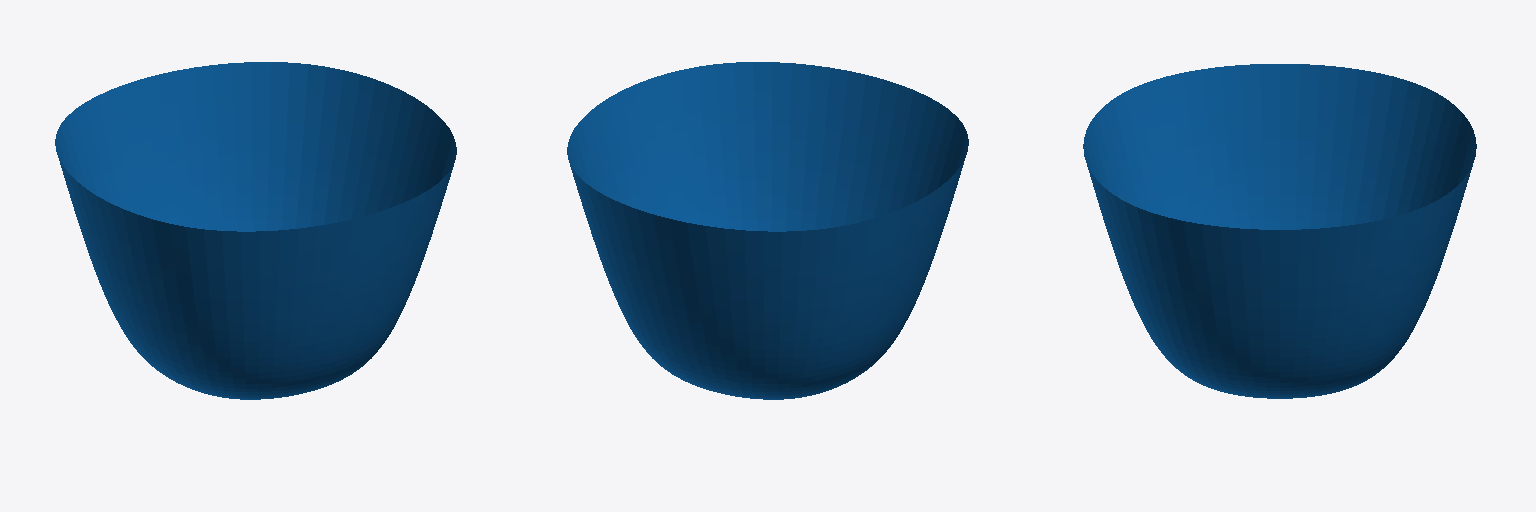
Rendered from tree.obj.
3 renders of one model, left to right at view 1: azimuth 30°, elevation 25°; view 2: azimuth 150°, elevation 25°; view 3: azimuth 270°, elevation 25°, orthographic.
Parts seen in each view (by area): view 1: ground; view 2: ground; view 3: ground.
Part boxes in pixels (x1,y1,x2,y2): ground: (55,62,456,399); ground: (567,62,968,399); ground: (1083,64,1476,398).
Bounding box in the file's own units: 377 × 231 × 377.